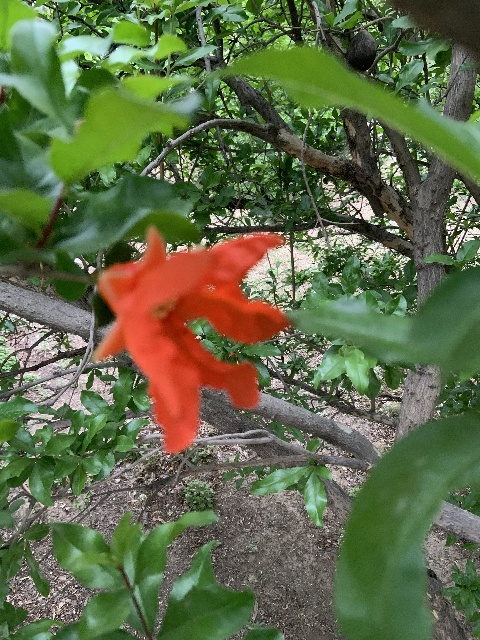flower: (92, 224, 290, 453)
